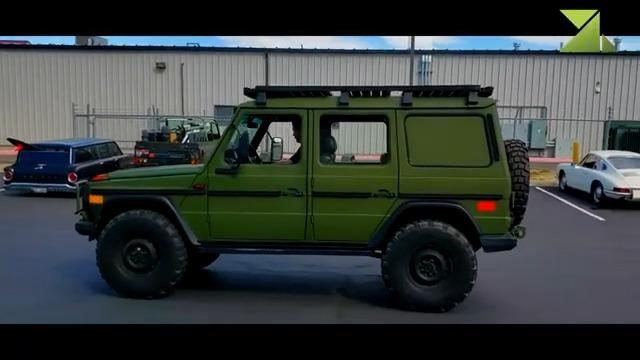MIL_HMMWV: (78, 83, 530, 308), (4, 137, 133, 197), (554, 150, 640, 207)
